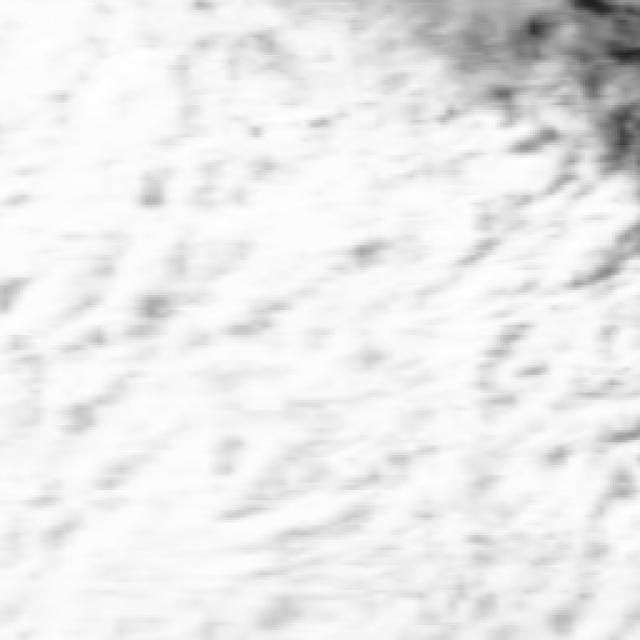CB: (53, 279, 271, 616), (33, 30, 162, 225)
